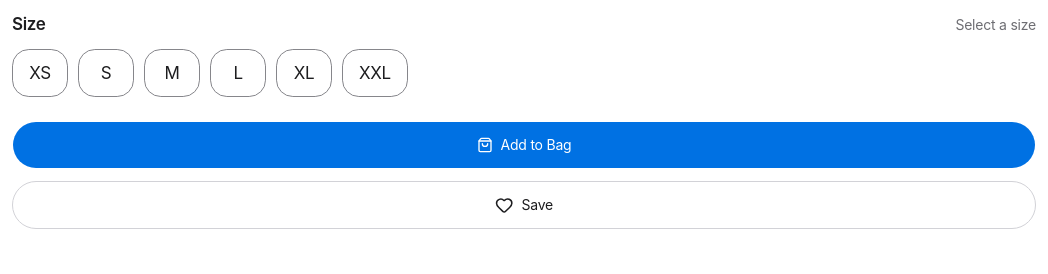
Test case: PurchasePanel › asks for a size instead of adding without one
This screenshot has width=1048, height=274.
What coordinates should you click on to do the following:
click the button "Add to Bag"
I would click on:
 (524, 145)
Its box is [12,121,1036,169].
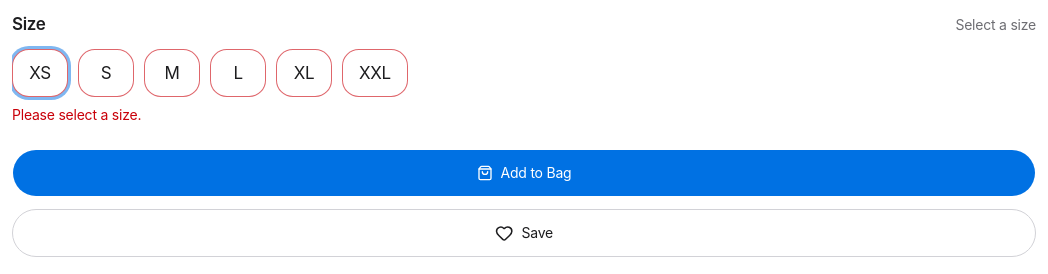
Now the message shows "Please select a size", box [12,106,141,123]
